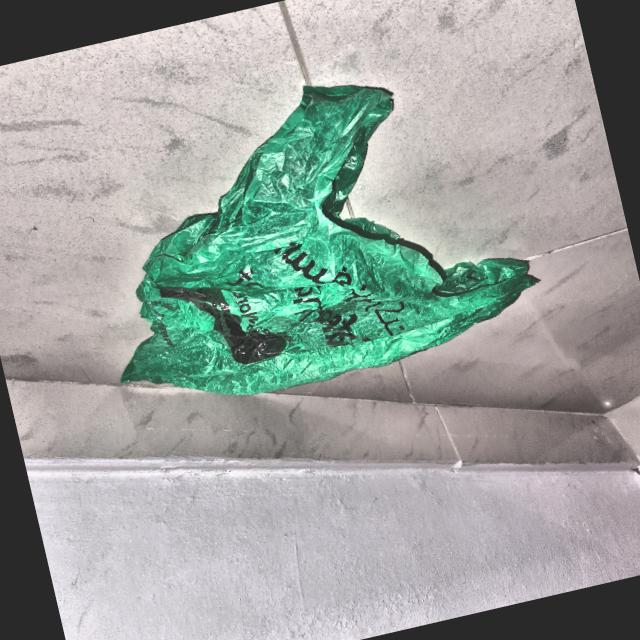plastic bag: (51, 39, 578, 450)
